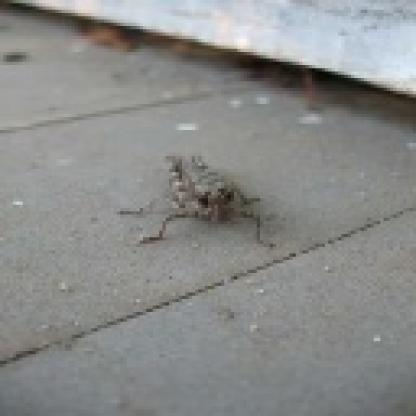grasshopper: (134, 152, 276, 254)
